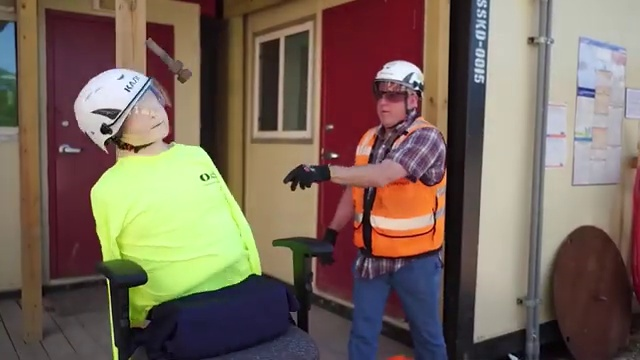helmet: (64, 60, 159, 150), (374, 51, 434, 96)
jacket: (346, 110, 455, 259)
